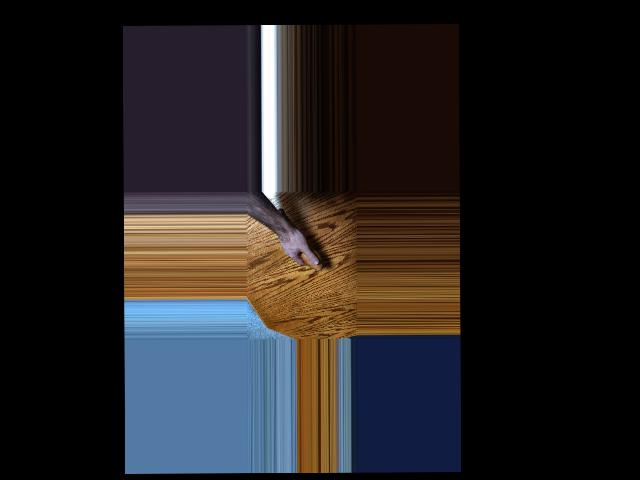sweet_potato: (273, 205, 323, 271)
